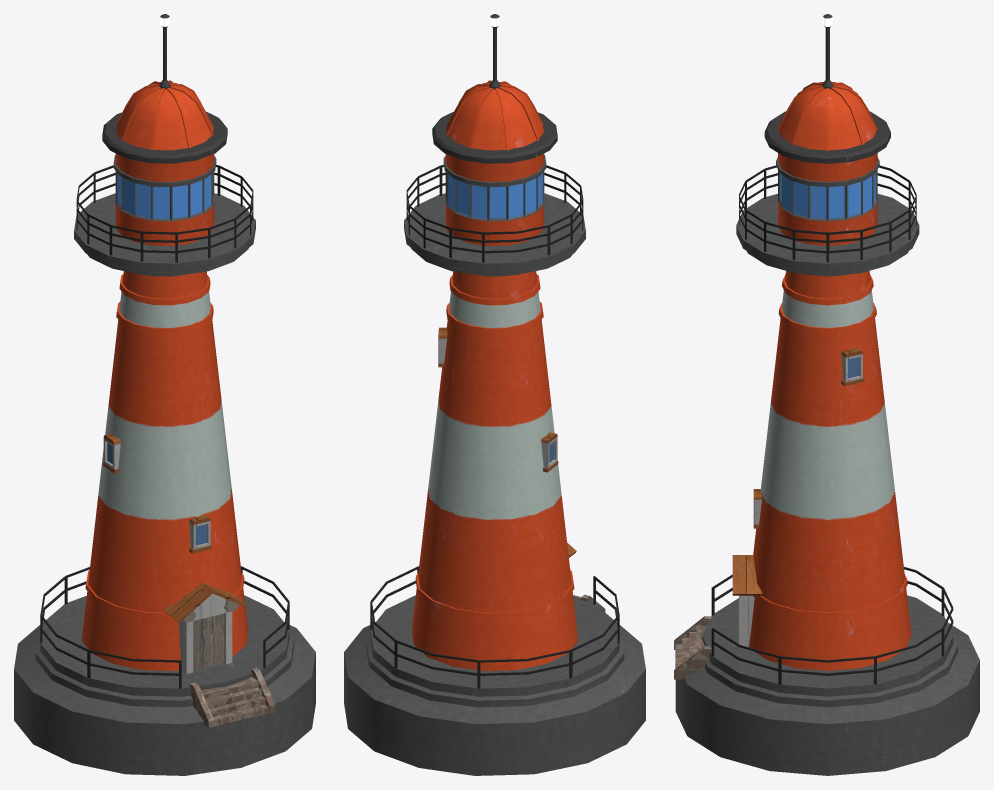
File: Lighthouse.fbx
The picture shows the model from 3 angles, left to right: view 1: azimuth 30°, elevation 25°; view 2: azimuth 150°, elevation 25°; view 3: azimuth 270°, elevation 25°; orthographic projection.
Visible parts, largest first — view 1: Lighthouse; view 2: Lighthouse; view 3: Lighthouse.
Part boxes in pixels (bbox=[...]): Lighthouse: bbox=[14, 14, 315, 775]; Lighthouse: bbox=[344, 14, 645, 775]; Lighthouse: bbox=[674, 14, 979, 775].
Bounding box in the file's own units: 362 × 916 × 364.
Materials: 2 (2 with a texture image).
